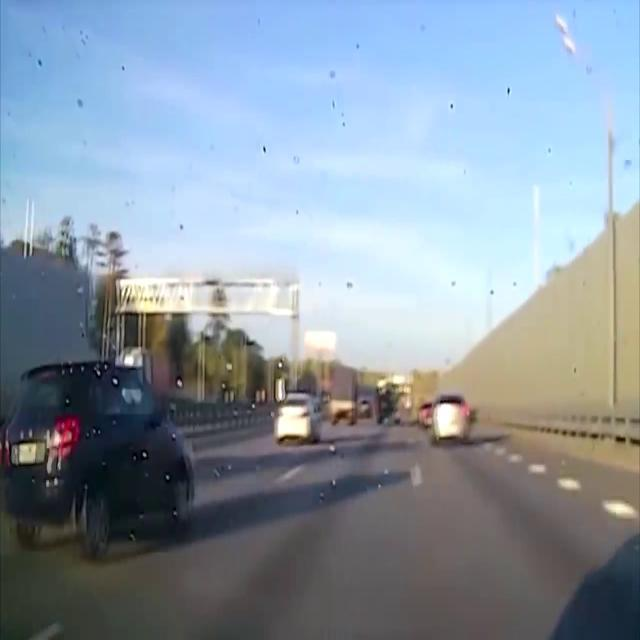normal: (5, 336, 352, 550)
